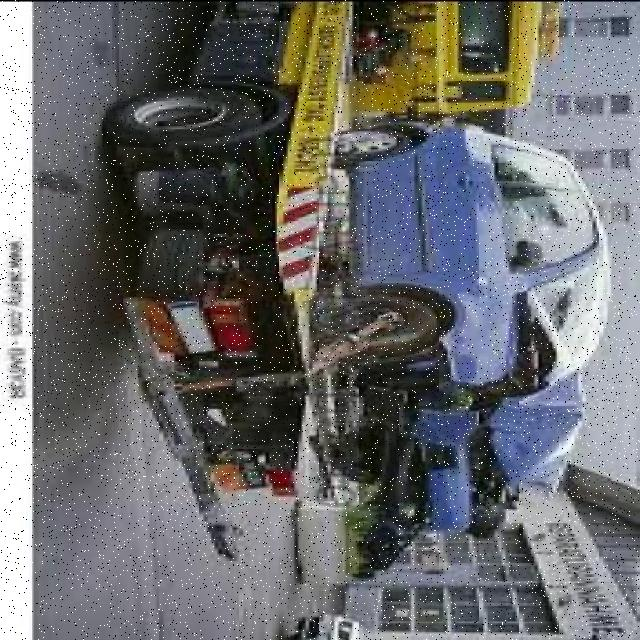damage: (354, 273, 606, 535)
